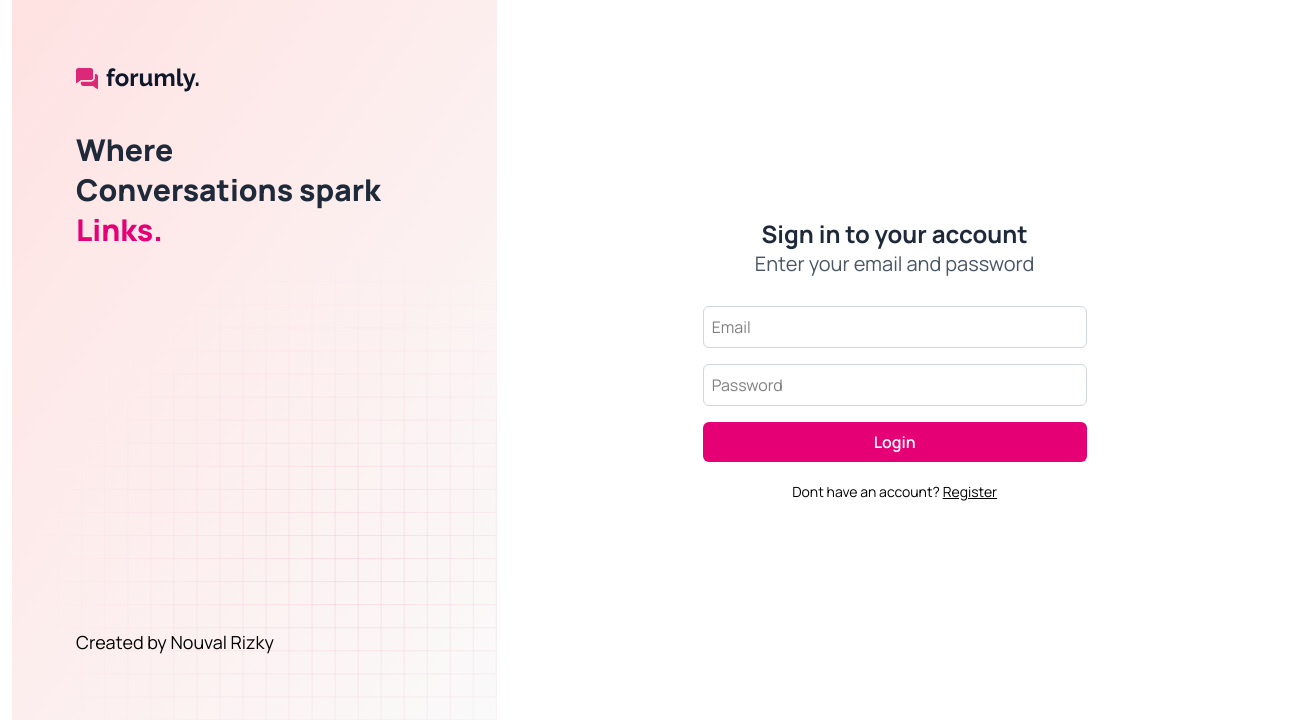
Test: Login spec › should display error message when password is empty
Type "mail@mail.com" into the field with placeholder "Email" at (895, 327), box 703,306 -> 1087,348
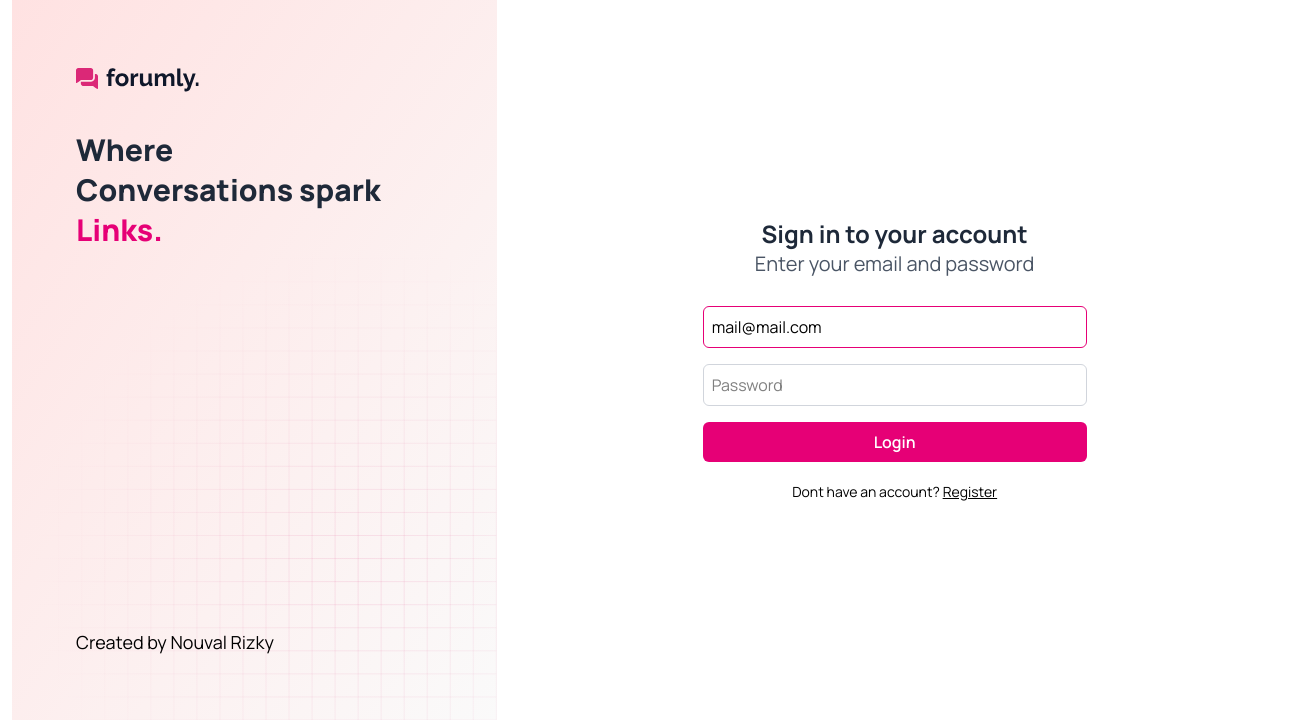
Click the button "Login" at (895, 442), box 703,422 -> 1087,462
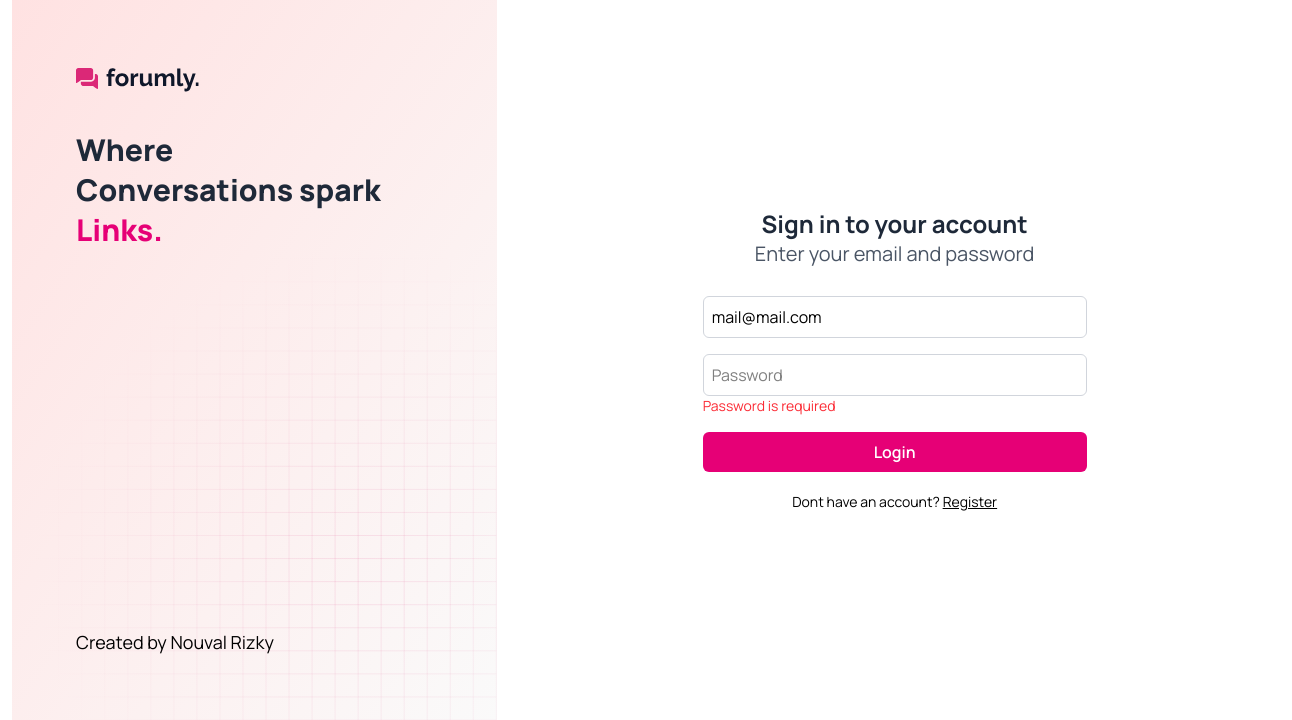
Result: the text "Password is required" is shown at 703,396 -> 836,415
